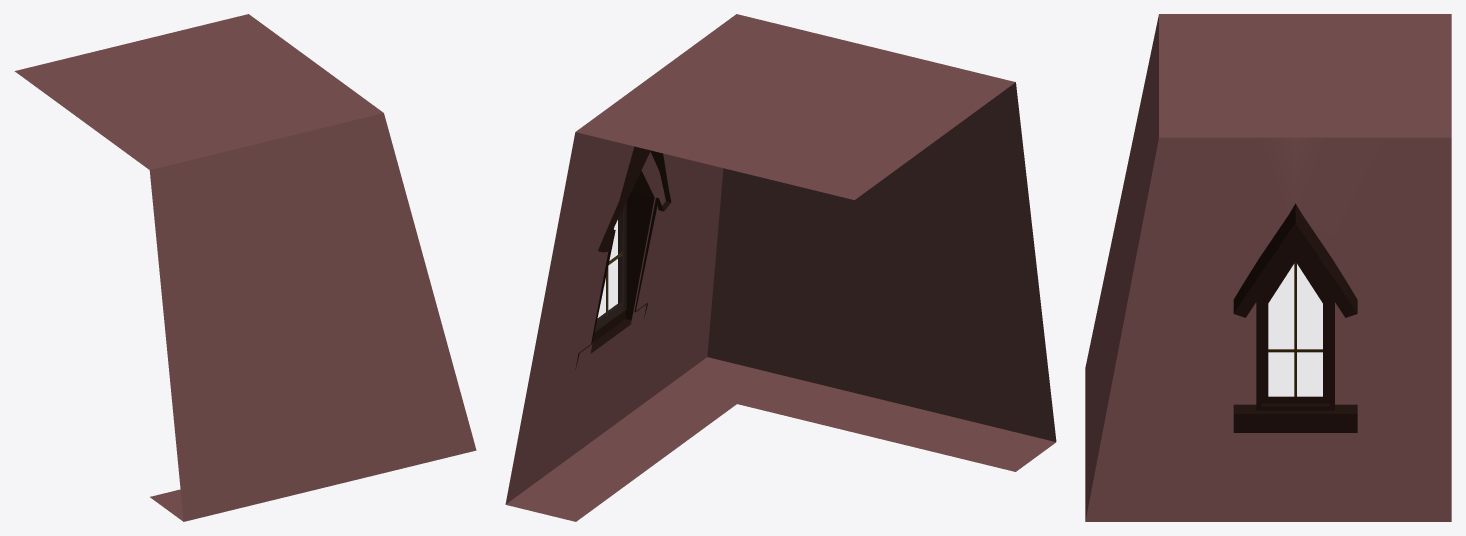
Rendered from Tejado_Esquina_02.fbx.
3 views of the same model, side by side, from view 1: azimuth 30°, elevation 25°; view 2: azimuth 150°, elevation 25°; view 3: azimuth 270°, elevation 25° (orthographic). The views are drawn at different scales.
Parts seen in each view (by area): view 1: polySurface26; view 2: polySurface26, Ventana3; view 3: polySurface26, Ventana3, Barrotes3.
Boxes of the visible parts, <box> form: polySurface26: <box>14,14,476,521</box>; polySurface26: <box>505,14,1056,521</box>; Ventana3: <box>575,146,671,368</box>; polySurface26: <box>1085,14,1451,521</box>; Ventana3: <box>1233,203,1357,432</box>; Barrotes3: <box>1268,261,1322,396</box>.
Size of the model in its own units: 7.5 by 8 by 7.51.
